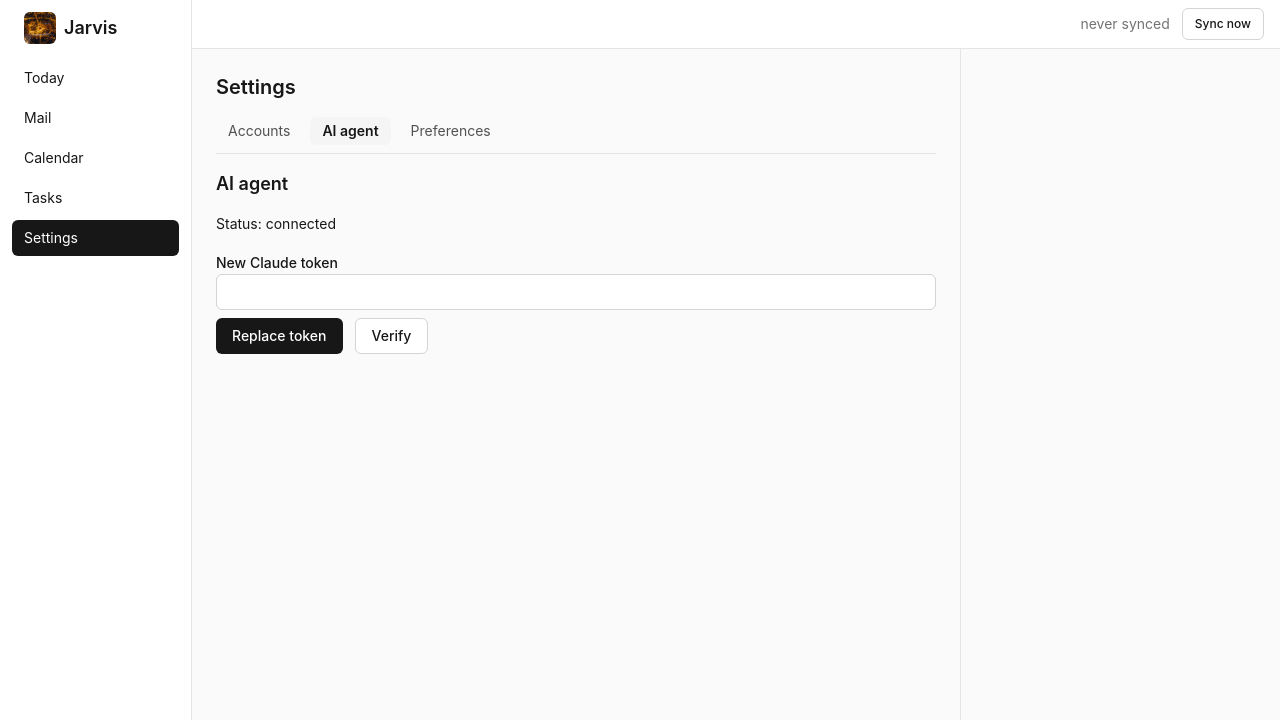
Test case: settings agent › replaces the token, verifies and never echoes it
The image size is (1280, 720).
Type "sk-ant-oat01-abc" into the password field labelled "New Claude token".
click(576, 292); type("sk-ant-oat01-abc")  # box [216, 274, 936, 310]
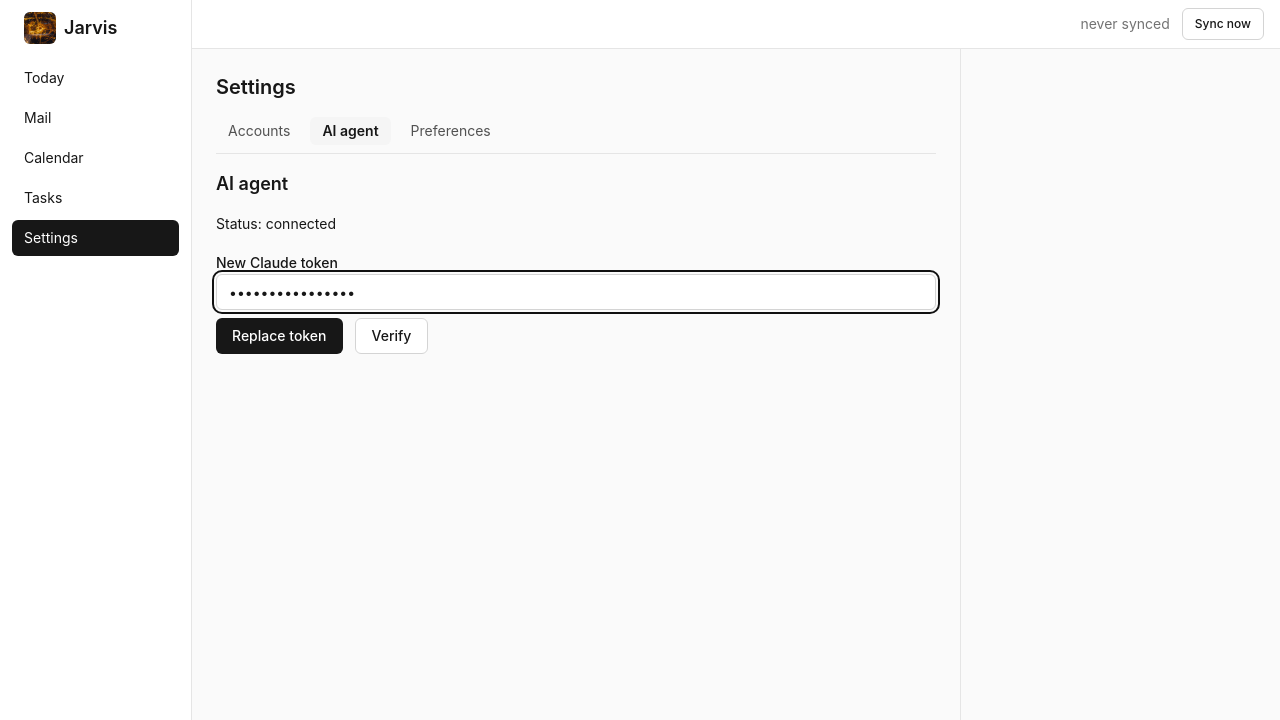
Click the button "Replace token".
click(279, 336)  # box [216, 318, 342, 354]
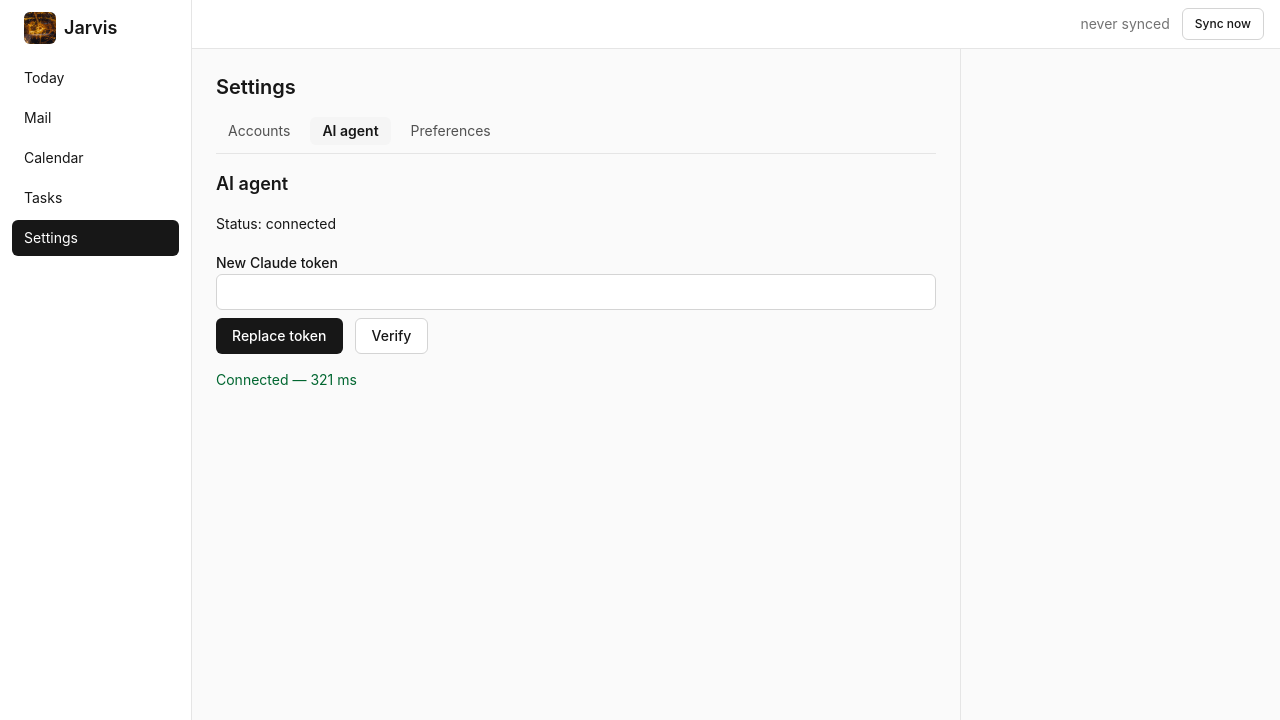
Result: the text "Connected — 321 ms" is shown at [216, 371, 357, 388]
